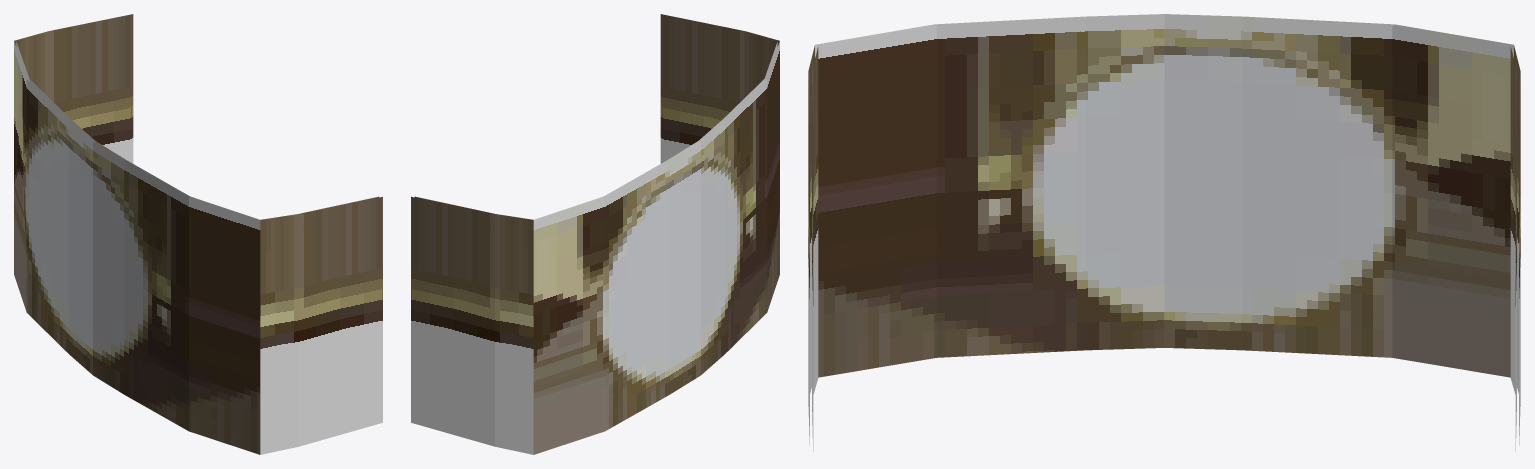
Rendered from Monkey_starGlasses.obj.
The picture shows the model from 3 angles, left to right: view 1: azimuth 30°, elevation 25°; view 2: azimuth 150°, elevation 25°; view 3: azimuth 270°, elevation 25°; orthographic projection. The views are drawn at different scales.
Visible parts, largest first — view 1: Monkey_starGlasses_tri; view 2: Monkey_starGlasses_tri; view 3: Monkey_starGlasses_tri.
Part boxes in pixels (<box>): Monkey_starGlasses_tri: <box>14,14,382,454</box>; Monkey_starGlasses_tri: <box>411,14,779,454</box>; Monkey_starGlasses_tri: <box>808,14,1520,451</box>.
Bounding box in the file's own units: 0.0646 × 0.0876 × 0.1702.
1 material, 1 textured.
